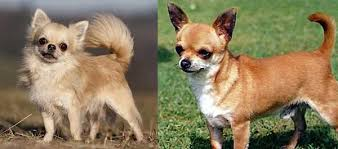Bulldog: (165, 3, 338, 137), (15, 5, 152, 144)
